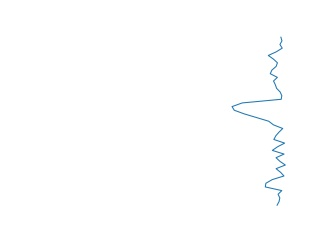interdistributaryEstuary: (228, 37, 296, 206)
